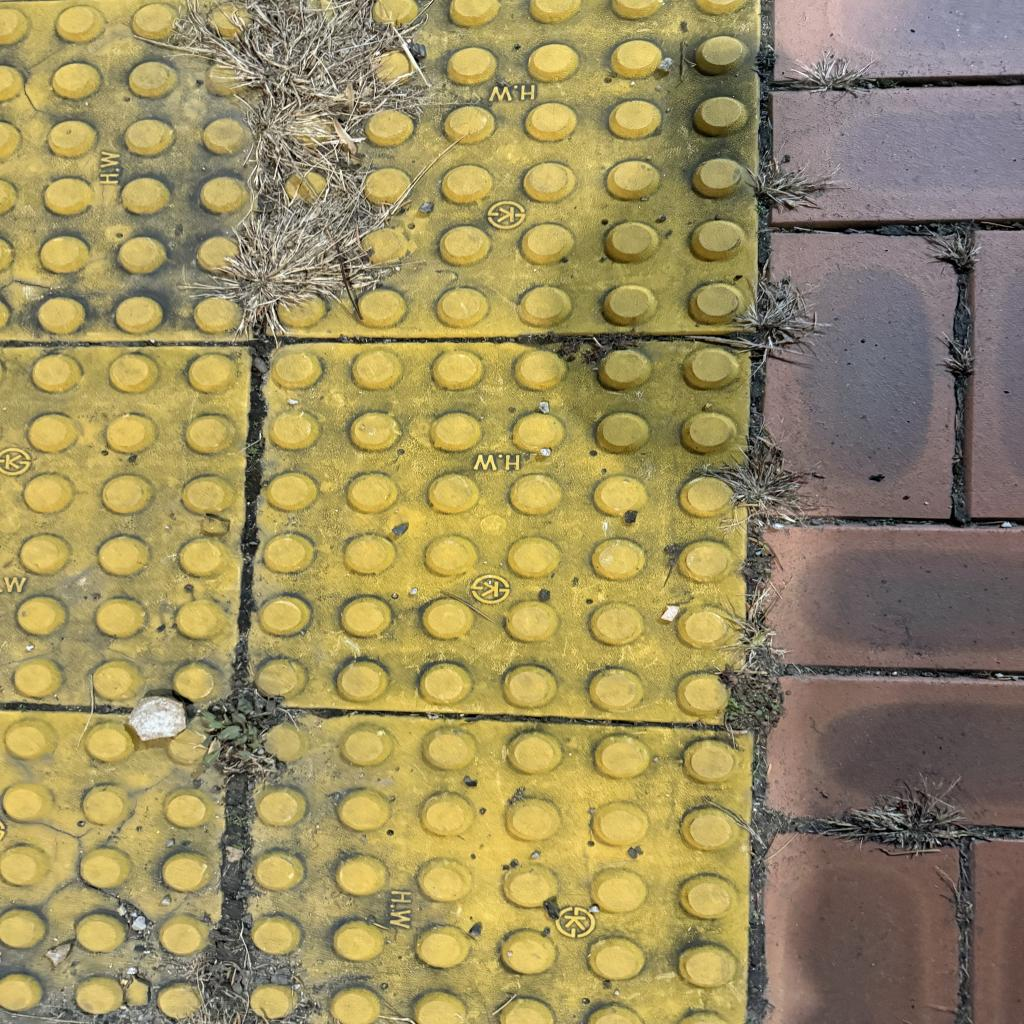Stop block normal: (269, 346, 744, 709)
